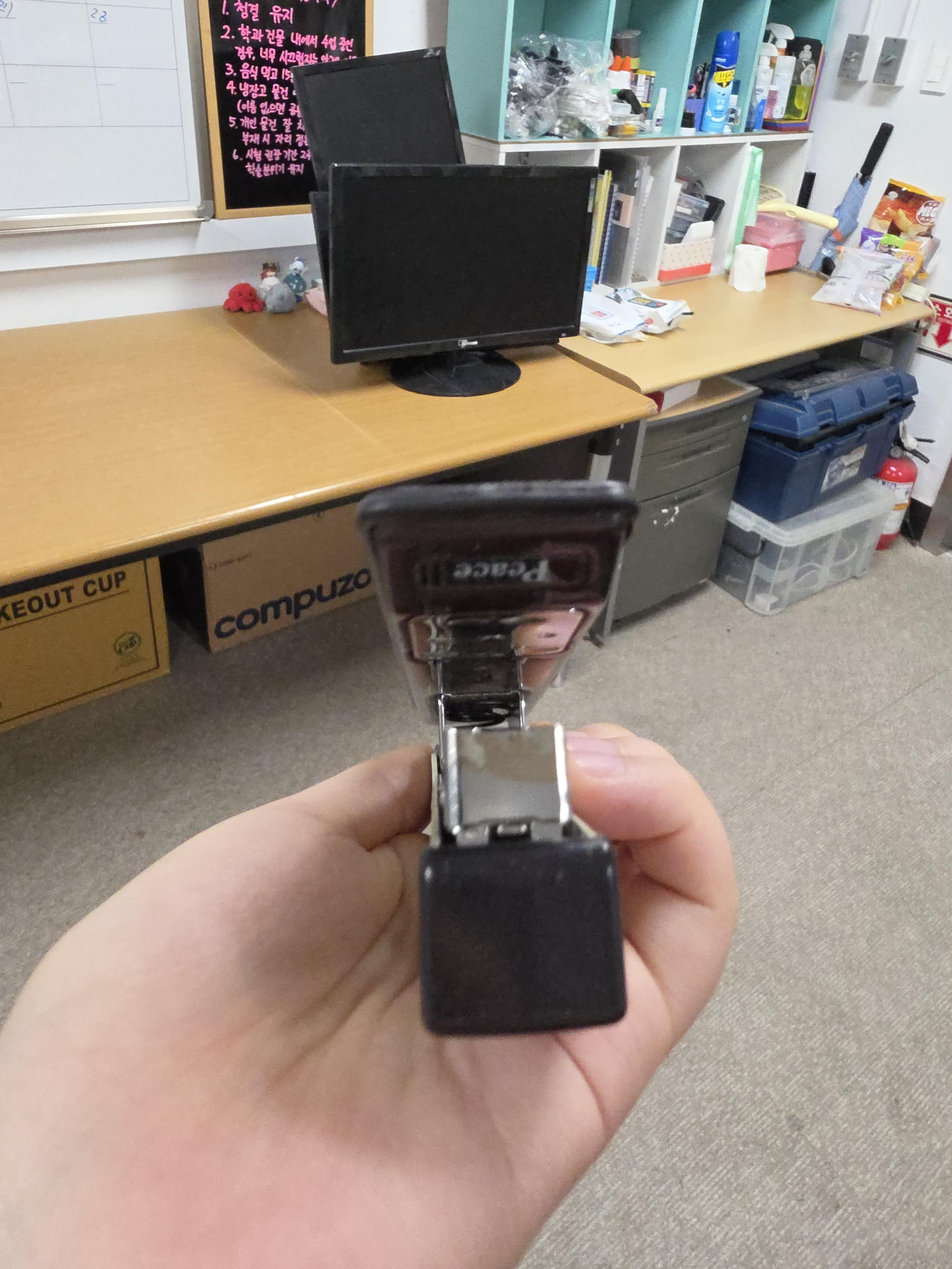stapler: (357, 480, 641, 1036)
tissue: (656, 239, 715, 283), (728, 244, 770, 293)
